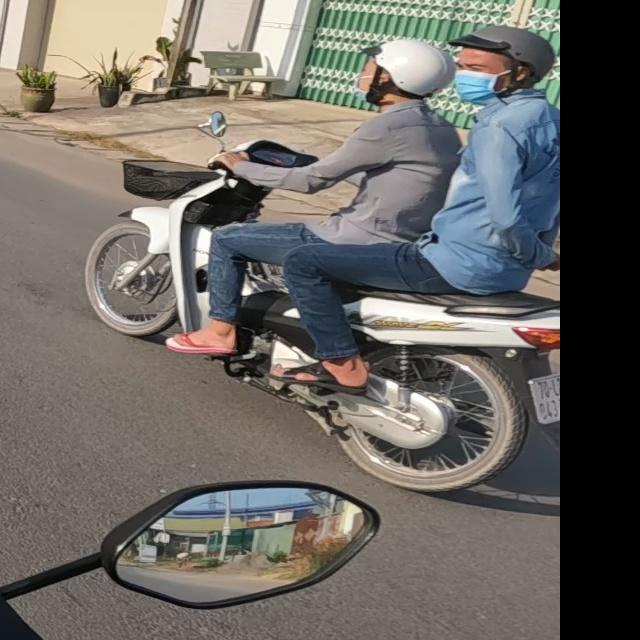license-plate: (526, 373, 561, 428)
